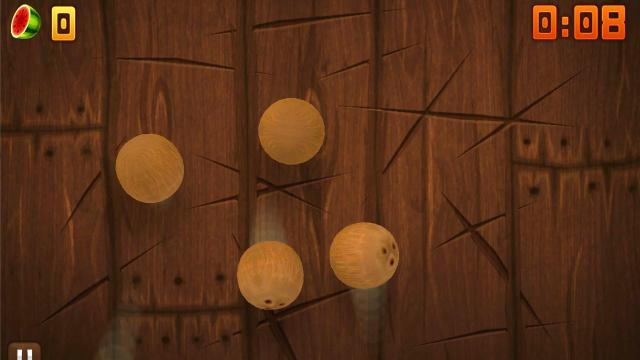fruit: (115, 134, 185, 202), (328, 222, 400, 288), (237, 240, 306, 308), (258, 96, 326, 164)
ignore: (9, 3, 43, 41)
